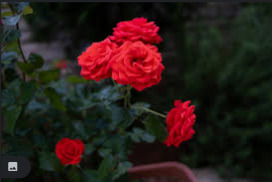RedRose: (112, 42, 164, 90), (159, 98, 197, 149), (73, 36, 114, 80), (111, 17, 164, 41), (54, 137, 87, 167)
